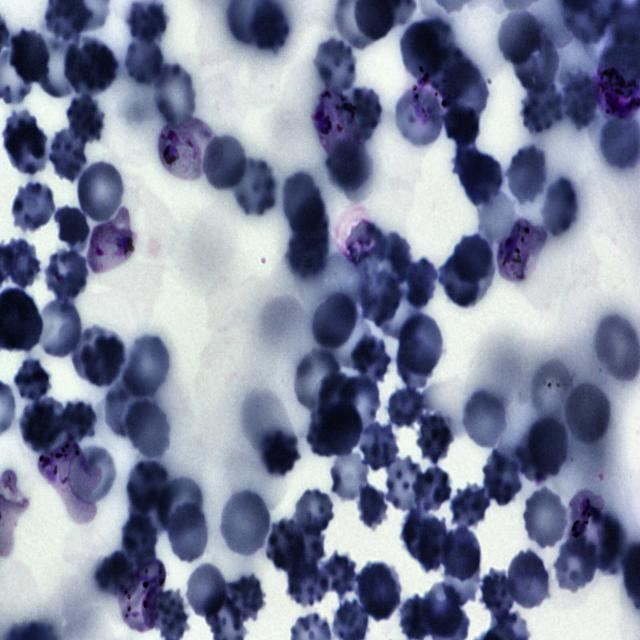gametocyte: (595, 63, 639, 119)
red blood cell: (219, 489, 272, 559), (562, 378, 613, 450), (75, 158, 127, 225), (121, 333, 172, 399), (290, 346, 341, 412), (75, 326, 127, 390), (288, 200, 329, 280), (34, 295, 84, 360), (151, 60, 197, 130), (70, 34, 120, 98), (512, 27, 561, 92), (310, 289, 359, 353), (522, 486, 570, 551), (230, 154, 278, 218), (455, 143, 503, 207), (125, 398, 173, 461), (402, 18, 453, 77), (166, 502, 211, 566), (394, 87, 442, 147), (157, 475, 203, 537), (538, 174, 580, 241), (313, 37, 359, 98), (202, 132, 248, 193), (461, 390, 507, 451), (506, 549, 551, 611), (70, 443, 115, 505), (505, 143, 549, 206), (21, 398, 71, 453), (442, 58, 488, 117), (401, 313, 444, 376), (357, 562, 402, 622), (553, 534, 598, 593), (481, 448, 525, 508), (526, 417, 570, 477), (383, 456, 428, 514), (336, 376, 381, 434), (5, 113, 46, 176), (36, 37, 78, 98), (284, 171, 324, 235), (10, 180, 58, 233), (442, 545, 482, 607), (105, 380, 147, 439), (184, 562, 228, 618), (357, 270, 401, 326), (442, 525, 484, 583), (498, 8, 542, 63), (10, 27, 51, 86), (44, 248, 89, 301), (266, 518, 307, 576), (331, 444, 370, 504), (126, 459, 169, 513), (350, 333, 392, 388), (440, 250, 480, 307), (325, 141, 371, 190), (318, 404, 363, 453), (293, 487, 337, 537), (521, 80, 562, 133), (50, 127, 88, 184), (66, 91, 106, 145), (285, 562, 328, 611), (423, 582, 460, 638), (562, 71, 598, 127), (94, 551, 136, 599), (345, 222, 387, 270), (260, 430, 301, 479), (122, 512, 159, 566), (415, 517, 450, 574), (454, 478, 491, 531), (452, 233, 492, 282), (409, 466, 452, 510), (396, 336, 432, 388), (288, 523, 326, 572), (358, 424, 400, 468), (386, 386, 426, 431), (402, 510, 436, 562), (350, 86, 382, 141), (417, 413, 452, 463), (355, 482, 390, 532), (230, 574, 265, 624), (321, 551, 359, 597), (126, 38, 163, 85), (14, 357, 53, 401), (6, 239, 40, 289), (406, 258, 438, 311), (126, 3, 168, 42), (444, 104, 481, 146), (52, 207, 88, 250), (482, 568, 513, 617), (62, 400, 97, 440)
trophozoite: (37, 441, 99, 526), (159, 116, 221, 179), (312, 88, 363, 162), (118, 558, 167, 634), (498, 219, 548, 284), (87, 205, 134, 274), (568, 490, 604, 552)
